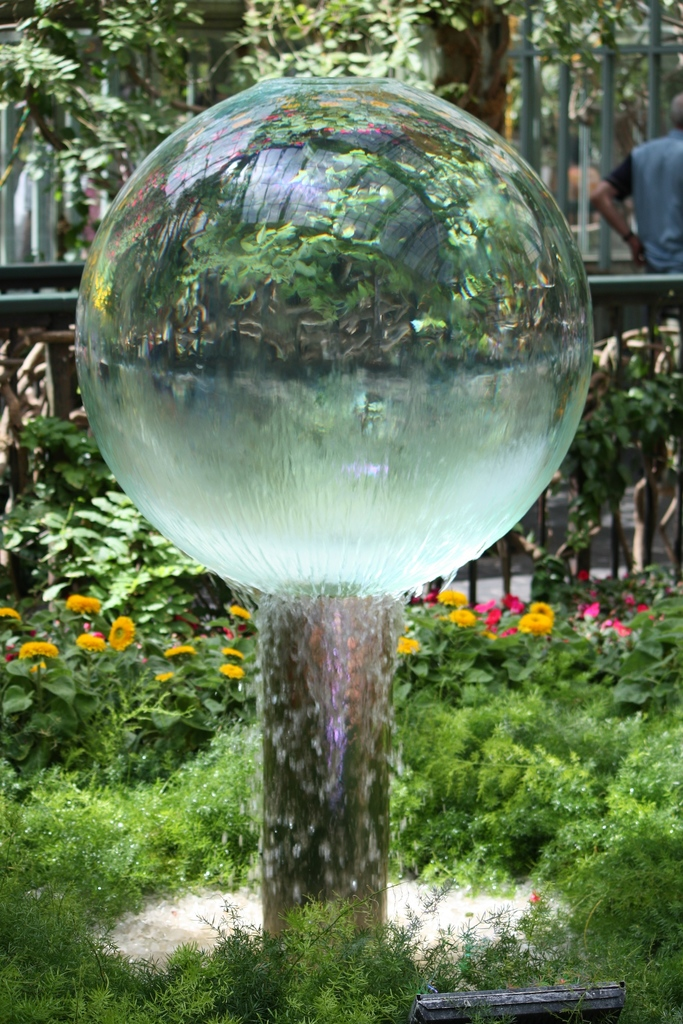Ball: (74, 73, 594, 593)
